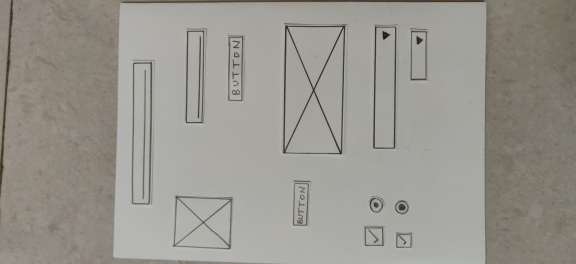button: (223, 31, 246, 106), (288, 177, 313, 230)
checkbox: (360, 223, 387, 249), (392, 229, 416, 251)
dropdown: (369, 23, 400, 152), (406, 27, 432, 84)
img: (279, 20, 351, 161), (169, 191, 237, 254)
radio: (364, 194, 387, 216), (393, 196, 411, 218)
text: (127, 57, 157, 209), (181, 26, 209, 129)
